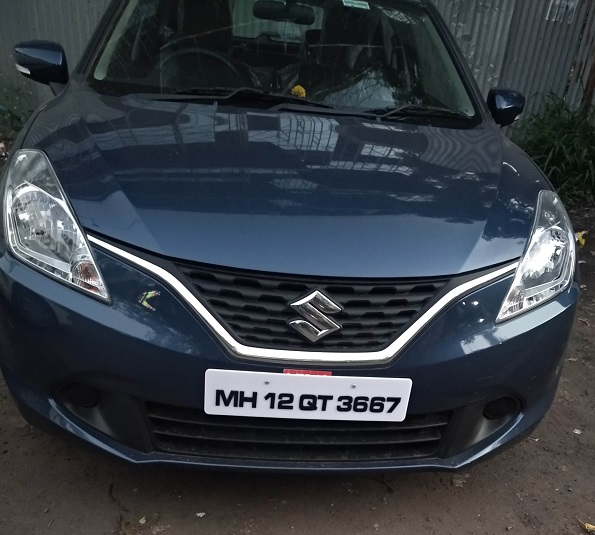licenseplate: (203, 366, 414, 425)
